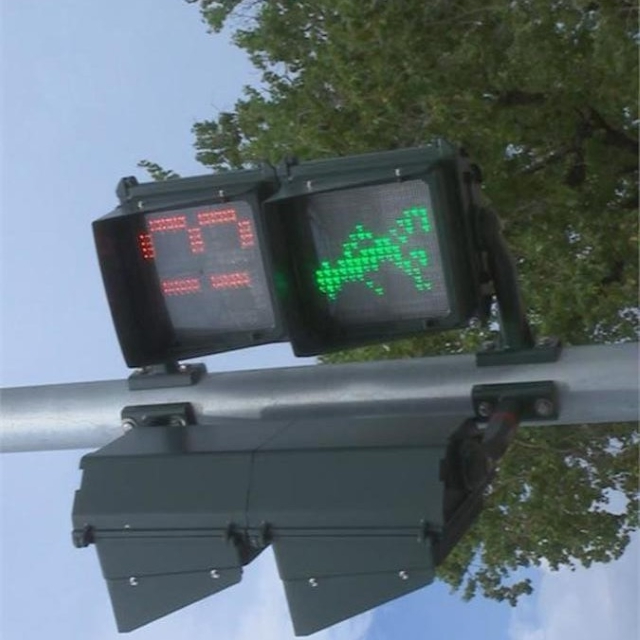green_light: (94, 146, 471, 359)
